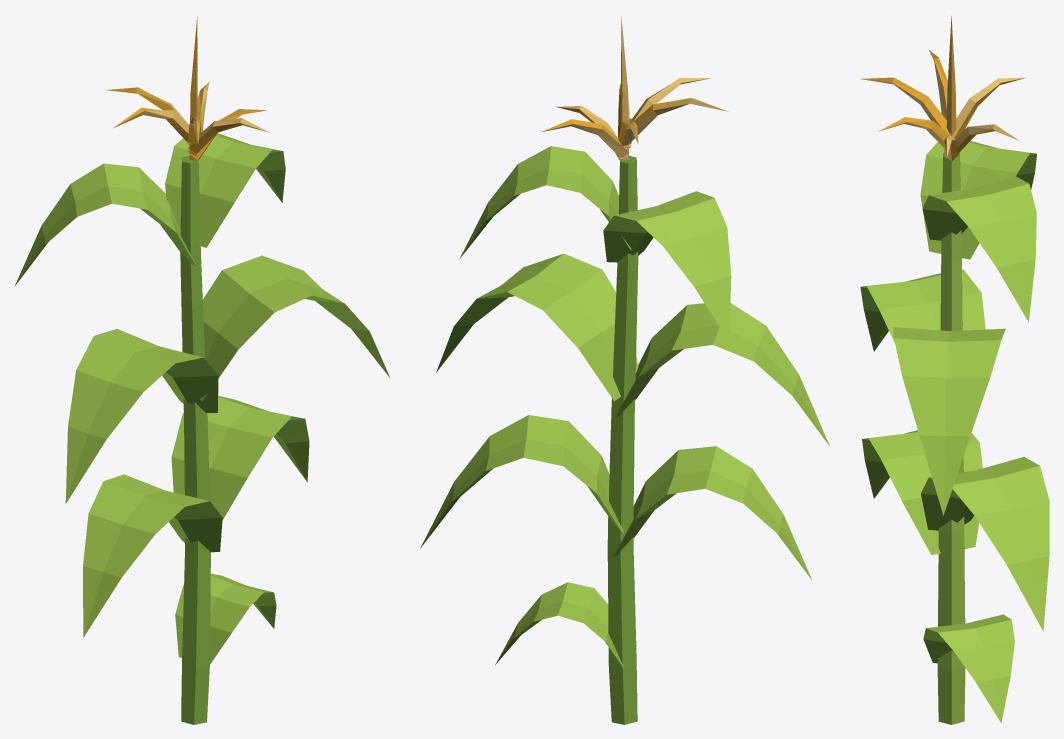
The model's file is FMS_Crop_Corn_S2.fbx.
The picture shows the model from 3 angles, left to right: view 1: azimuth 30°, elevation 25°; view 2: azimuth 150°, elevation 25°; view 3: azimuth 270°, elevation 25°; orthographic projection.
Parts seen in each view (by area): view 1: FMS_Crop_Corn_S2; view 2: FMS_Crop_Corn_S2; view 3: FMS_Crop_Corn_S2.
Part boxes in pixels (x1,y1,x2,y2): FMS_Crop_Corn_S2: (14, 17, 390, 724); FMS_Crop_Corn_S2: (420, 16, 829, 724); FMS_Crop_Corn_S2: (860, 16, 1049, 724).
Size of the model in its own units: 1.09 by 2.04 by 0.4974.
